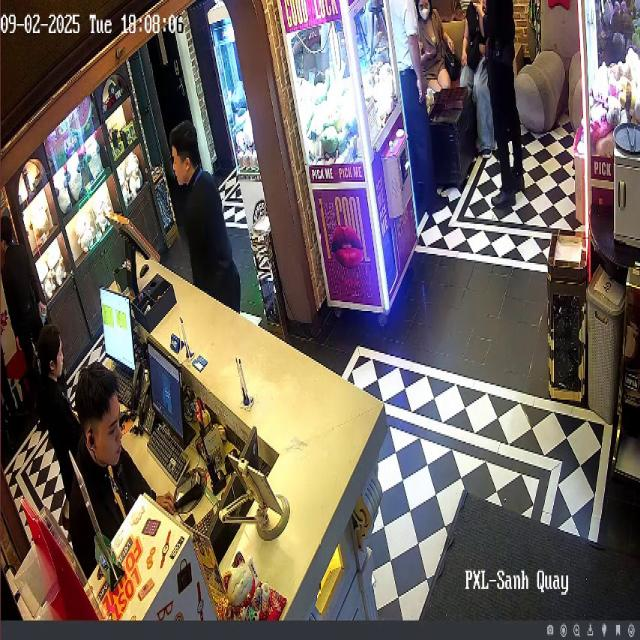khach: (375, 1, 450, 215), (459, 2, 494, 168), (412, 0, 452, 88)
nhan vien: (75, 350, 160, 567), (169, 112, 243, 333), (471, 0, 537, 218), (1, 213, 51, 431), (35, 313, 70, 503)
